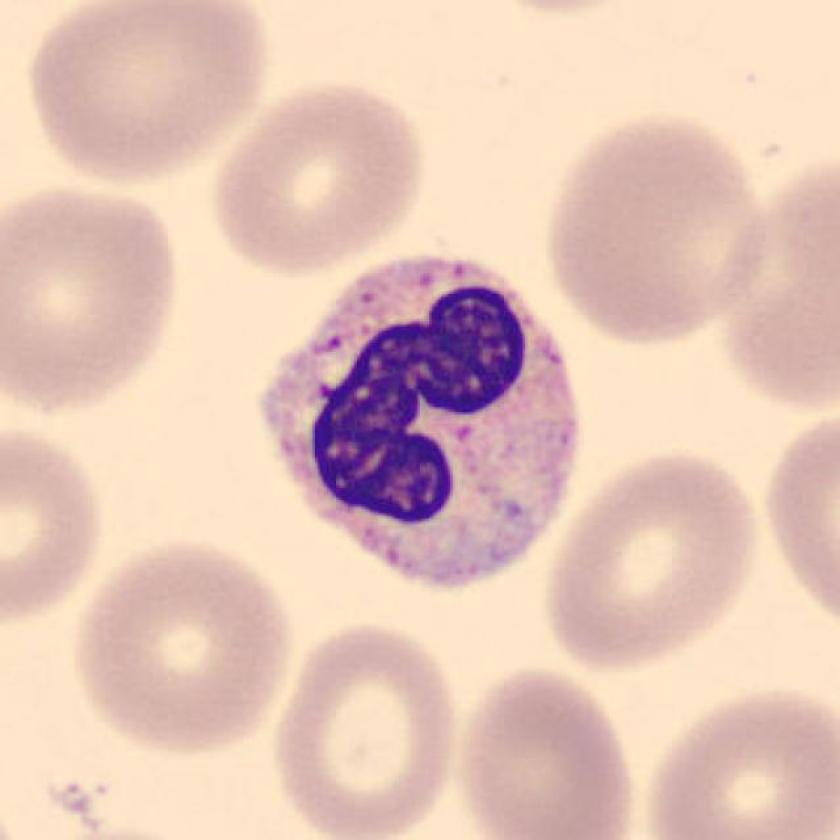neutrophil: (266, 253, 573, 585)
